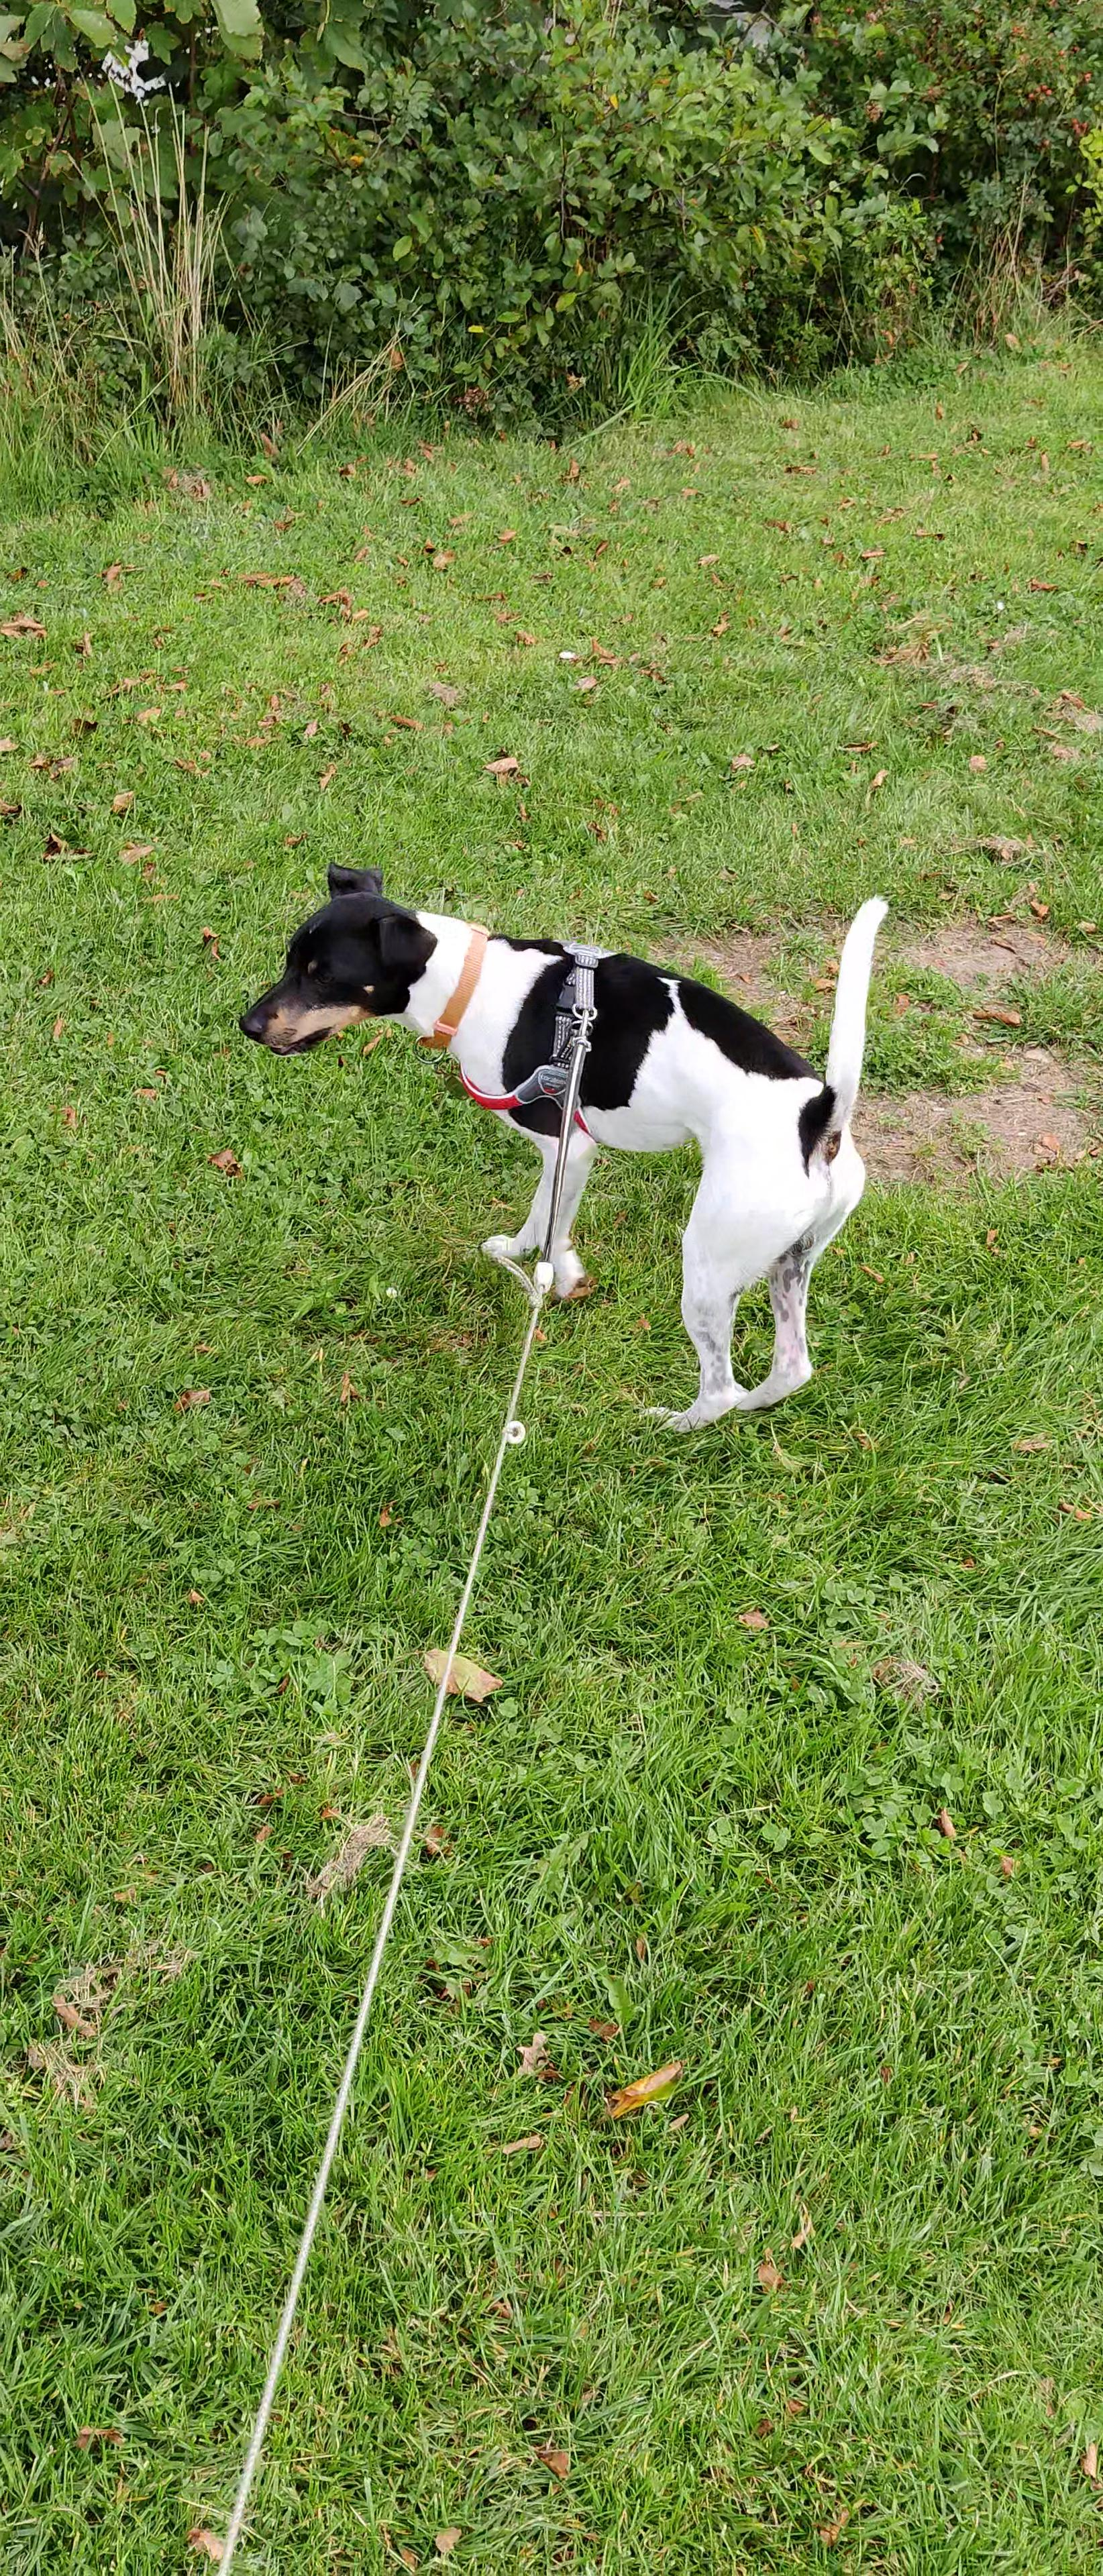Dog: (220, 838, 927, 1452)
